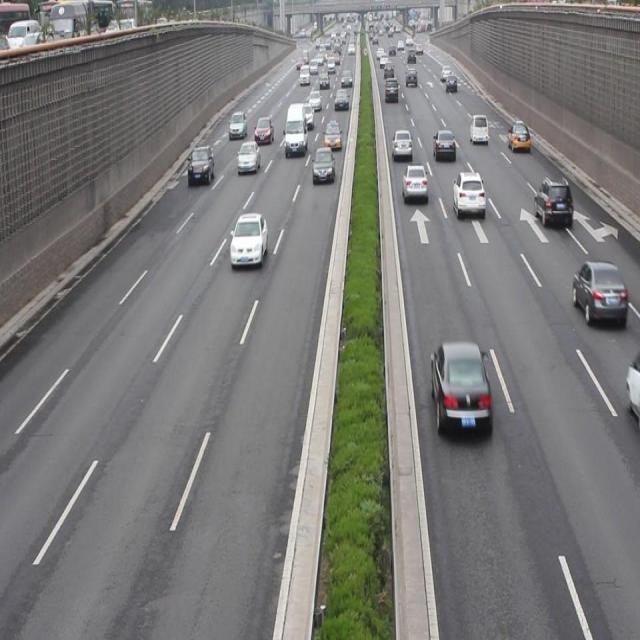car: (429, 339, 490, 435), (572, 258, 626, 324), (229, 208, 268, 266), (534, 175, 572, 228), (451, 171, 485, 218), (624, 346, 640, 423), (188, 143, 215, 183), (401, 162, 426, 202), (432, 127, 456, 162), (310, 144, 332, 182), (238, 139, 260, 174), (507, 120, 530, 152), (469, 111, 489, 144), (253, 115, 274, 146), (228, 110, 248, 142), (391, 129, 412, 158), (323, 120, 341, 149)
truck: (284, 104, 308, 157)
